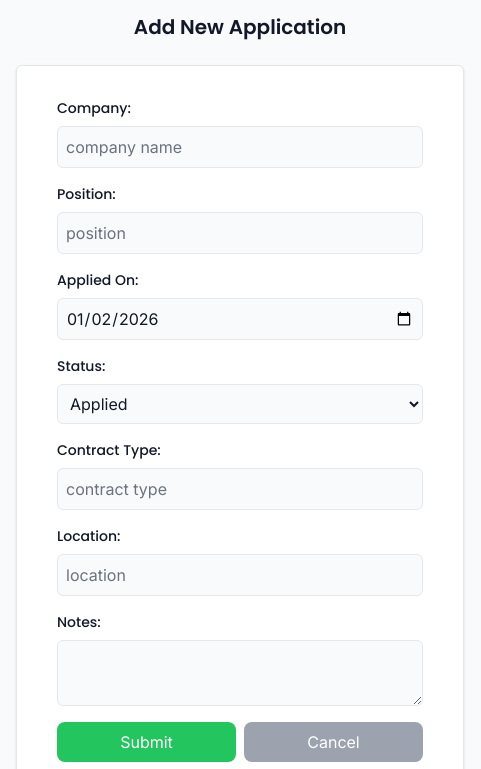
JobForm › when creating a new application › shows validation errors on empty submit
Click the button "Submit" at coordinates (146, 742), box 57,722 -> 236,762
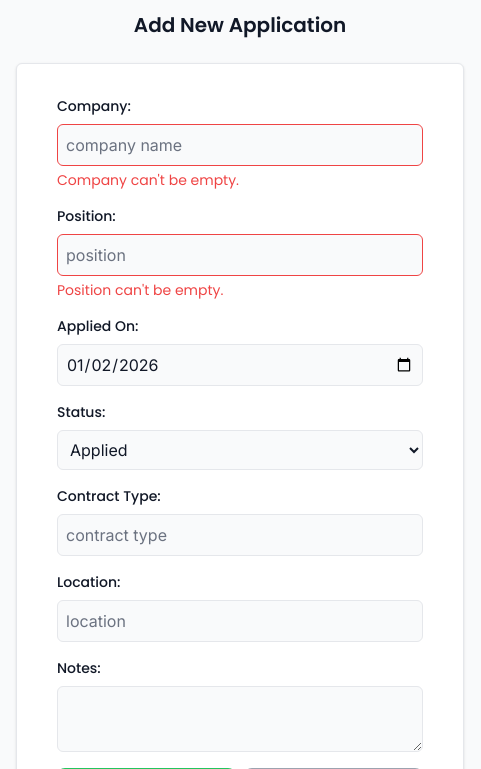
Check: the text "Company can't be empty." is shown, box 57,170 -> 239,190
Check: the text "Position can't be empty." is shown, box 57,280 -> 223,300
